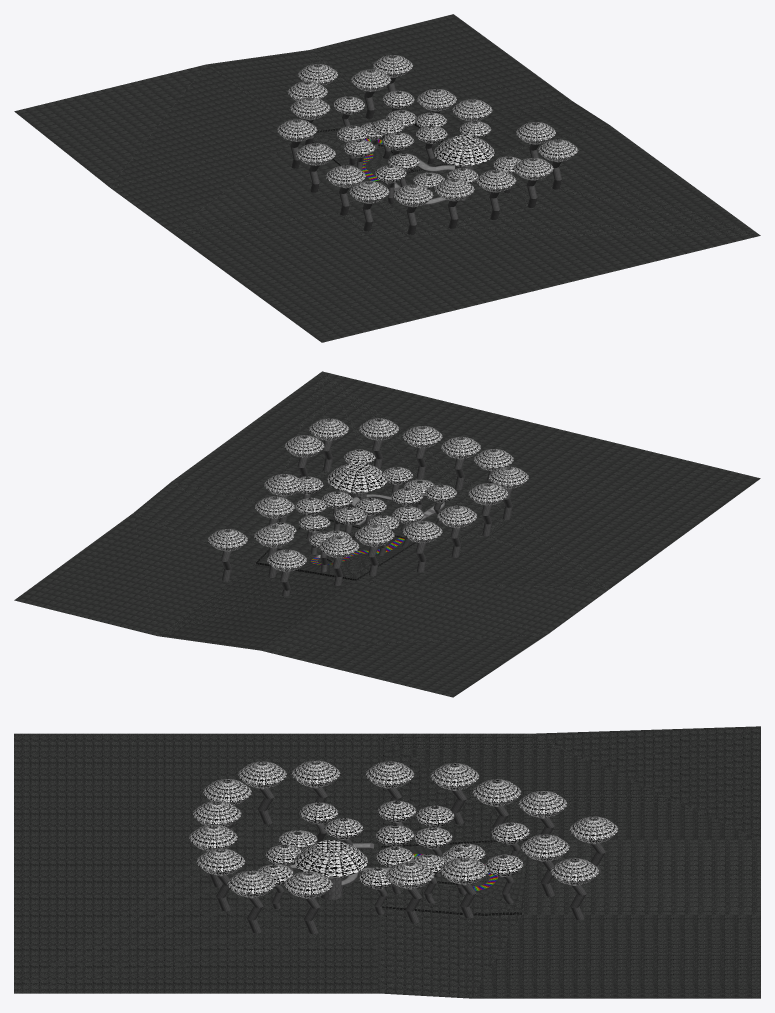
3 views of the same model, one above another, from view 1: azimuth 30°, elevation 25°; view 2: azimuth 150°, elevation 25°; view 3: azimuth 270°, elevation 25° (orthographic). The views are drawn at different scales.
Parts seen in each view (by area): view 1: course2-SKP--Material7, course2-SKP--Material6, course2-SKP--Material5; view 2: course2-SKP--Material7, course2-SKP--Material6, course2-SKP--Material5; view 3: course2-SKP--Material7, course2-SKP--Material6, course2-SKP--Material5, course2-SKP--Material10.
Part boxes in pixels (x1,y1,x2,y2): course2-SKP--Material7: (14,14,760,342); course2-SKP--Material6: (277,55,578,207); course2-SKP--Material5: (290,77,561,234); course2-SKP--Material7: (14,371,760,697); course2-SKP--Material6: (207,418,528,572); course2-SKP--Material5: (221,440,512,596); course2-SKP--Material7: (14,726,760,998); course2-SKP--Material6: (189,760,618,898); course2-SKP--Material5: (209,787,605,934); course2-SKP--Material10: (380,838,528,915).
Size of the model in its own units: 183569 by 26559 by 222723.
13 materials, 13 textured.
